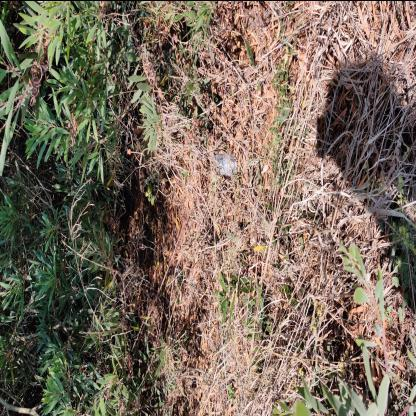plastik: (215, 154, 239, 176)
